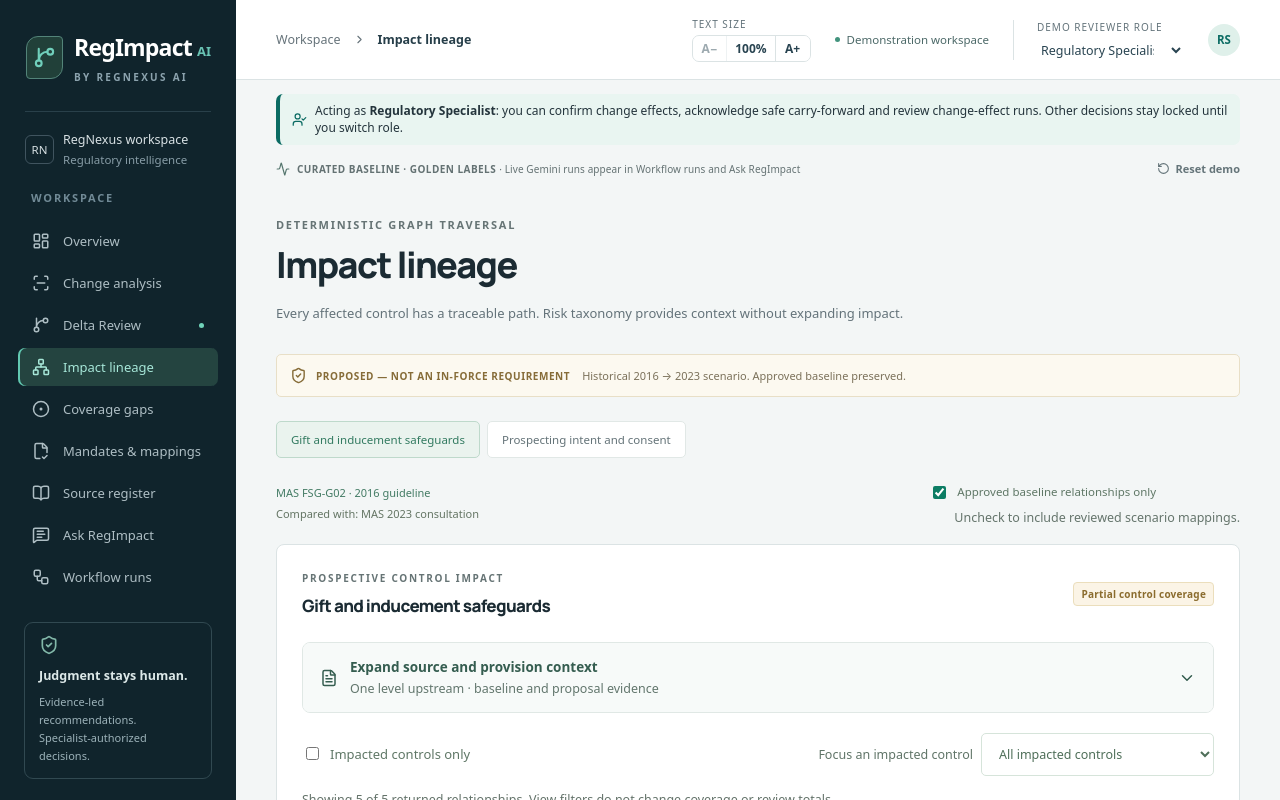
Test: Focused lineage context and view controls › expands actual source locators and labelled evidence without adding graph relationships
The width and height of the screenshot is (1280, 800).
Click the button "Expand source and provision context".
click(375, 667)  # box [303,643,1213,712]
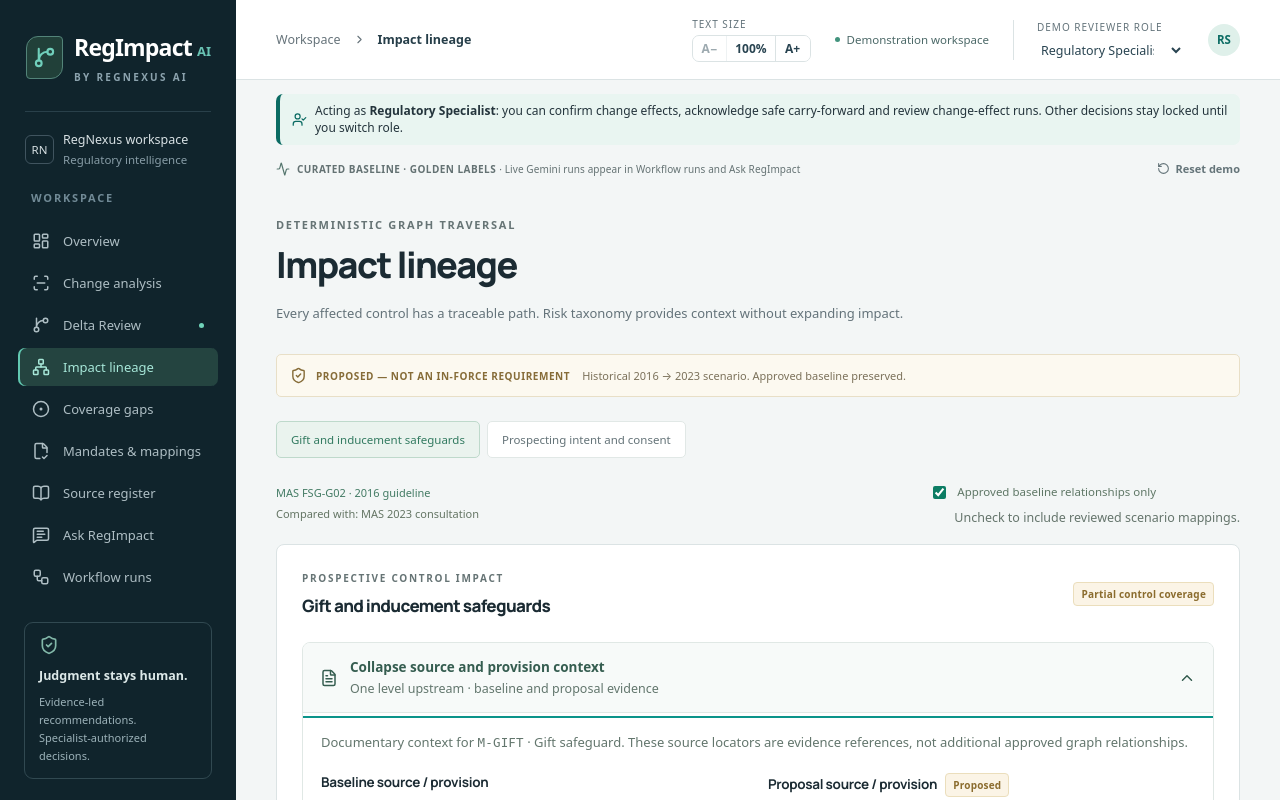
expect the text "not additional approved graph relationships" is shown: met, box [621,733,1188,751]
Click the button "Collapse source and provision context".
click(378, 667)  # box [303,643,1213,712]
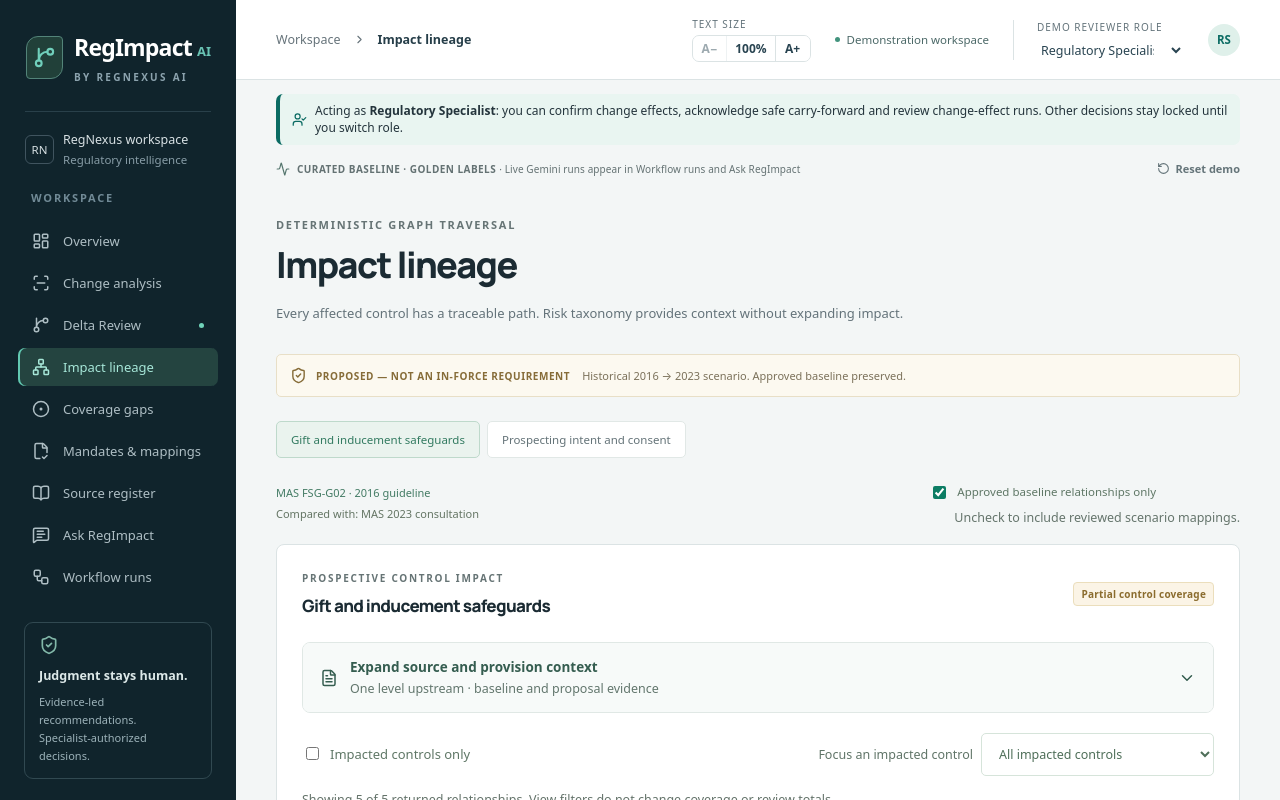
expect the heading "Proposal source / provision" is gone: met
